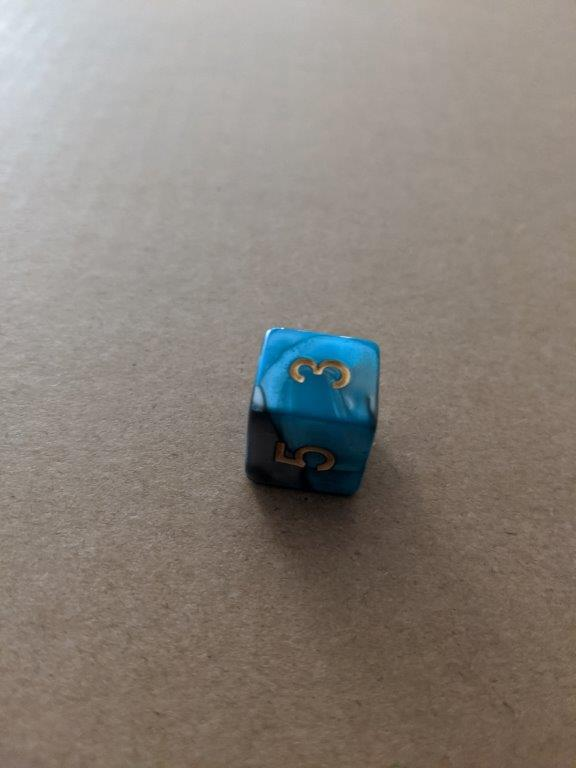d6-3: (242, 327, 381, 497)
